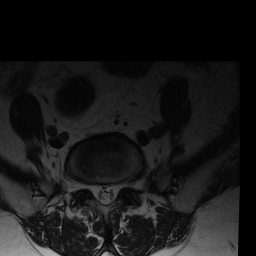CCS_normal: (99, 176, 110, 209)
LFS_stenosis: (119, 174, 126, 197)
LLS_normal: (110, 179, 118, 207)
RFS_stenosis: (83, 175, 92, 200)
RLS_normal: (91, 178, 99, 204)
